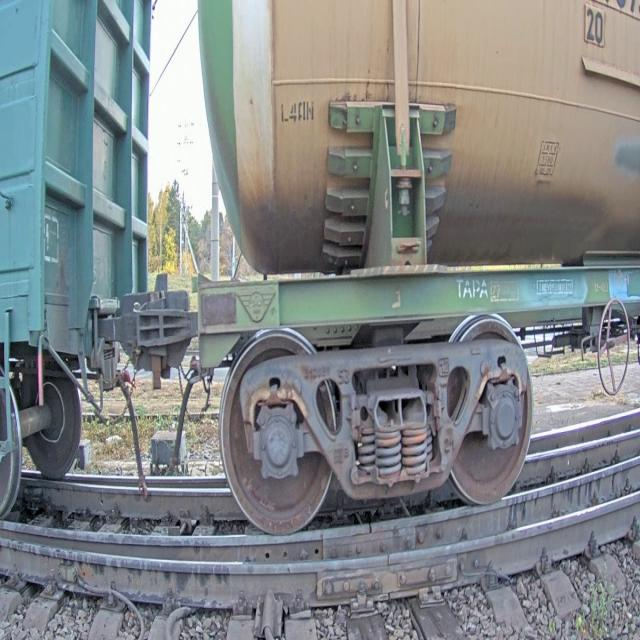gondola: (0, 0, 155, 544)
tank: (185, 0, 640, 542)
